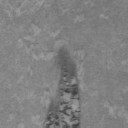oxide scale of plate system: (44, 44, 83, 128)
